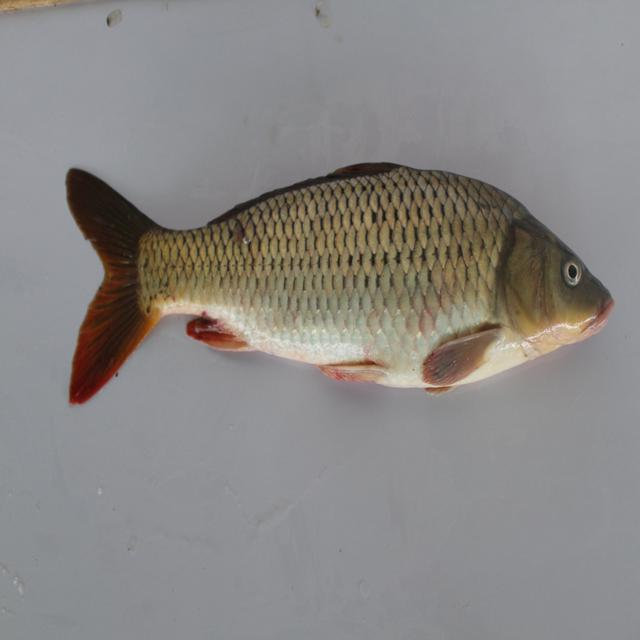CommonCarp: (46, 137, 640, 439)
